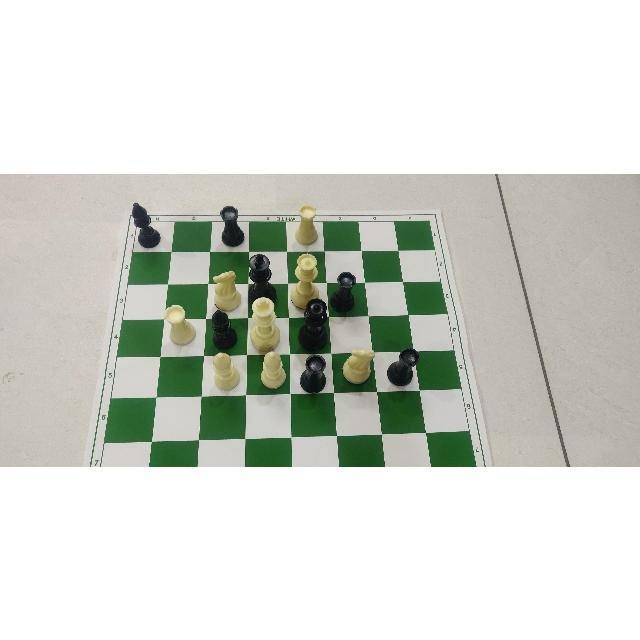black-bishop: (134, 225, 170, 247), (208, 323, 239, 348)
black-king: (249, 286, 283, 307)
black-queen: (295, 323, 327, 348)
black-rook: (290, 356, 332, 388), (384, 355, 416, 383), (213, 222, 247, 246), (335, 287, 361, 307)
white-bishop: (205, 357, 245, 389), (256, 359, 286, 389)
white-king: (249, 318, 285, 346)
white-knight: (338, 357, 374, 385), (211, 286, 242, 309)
white-queen: (287, 285, 324, 303)
white-rook: (168, 320, 200, 349), (293, 221, 322, 244)
